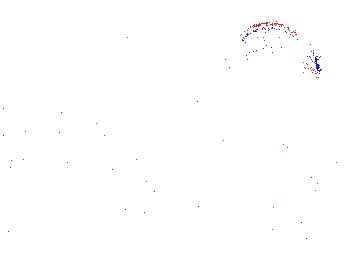moon jellyfish: (24, 5, 136, 75), (225, 23, 320, 84), (105, 18, 195, 57)
